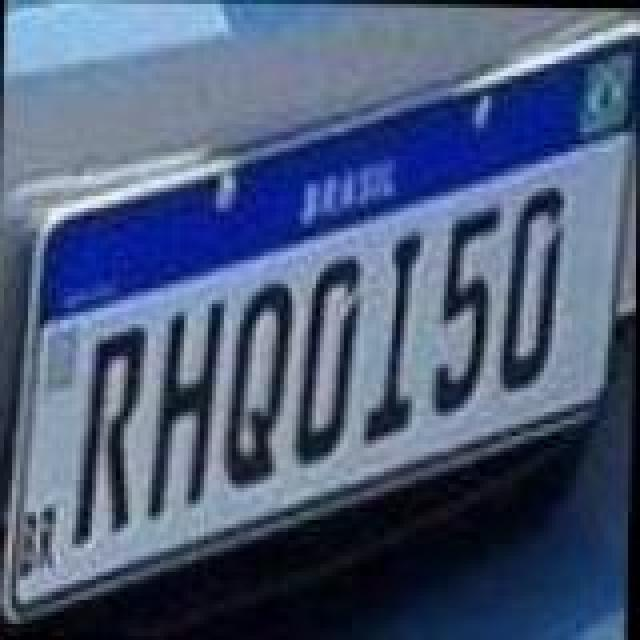5: (430, 198, 506, 418)
D: (296, 256, 368, 468), (496, 184, 568, 392)
H: (144, 304, 228, 528)
I: (364, 232, 428, 448)
Q: (218, 280, 298, 492)
R: (72, 324, 152, 548)
